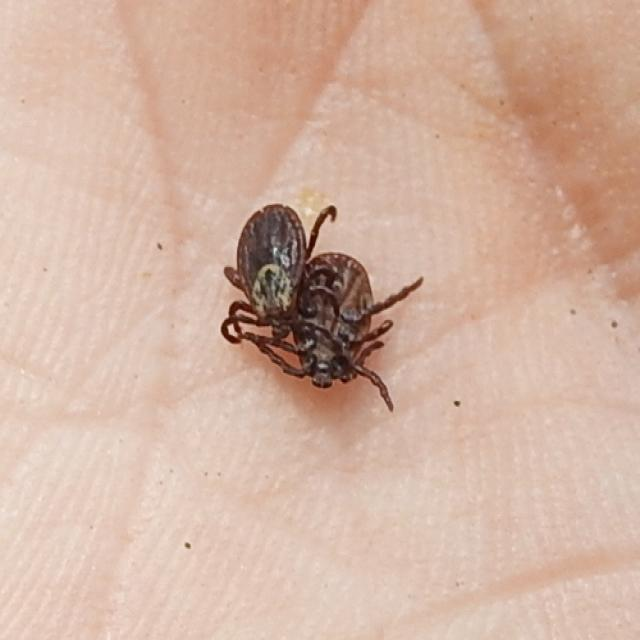Dermacentor Reticulatus-F: (221, 204, 342, 344)
